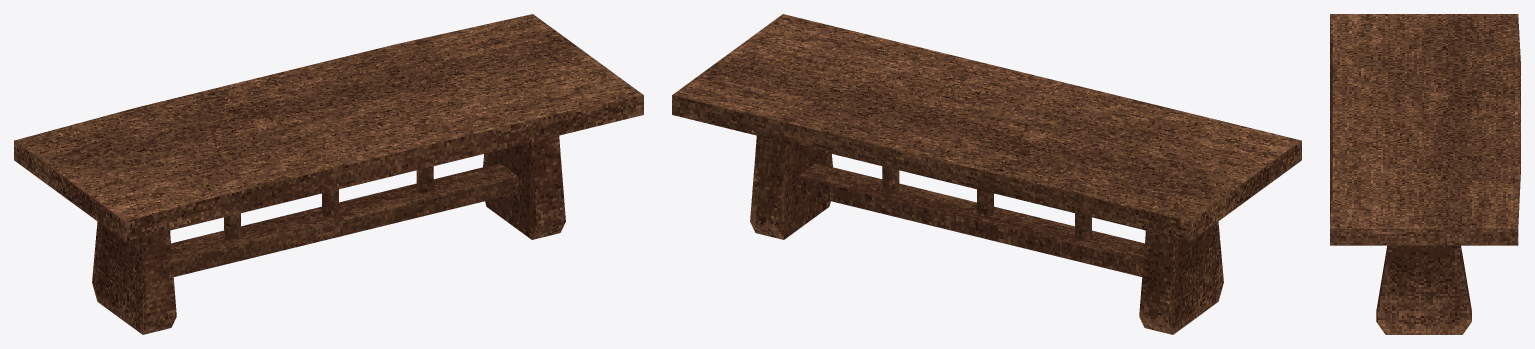
Rendered from Table_1.gltf.
3 views of the same model, side by side, from view 1: azimuth 30°, elevation 25°; view 2: azimuth 150°, elevation 25°; view 3: azimuth 270°, elevation 25° (orthographic). The views are drawn at different scales.
Visible parts, largest first — view 1: Table_1; view 2: Table_1; view 3: Table_1.
Part boxes in pixels (x1,y1,x2,y2): Table_1: (14, 14, 643, 334); Table_1: (672, 14, 1301, 334); Table_1: (1330, 14, 1520, 334).
Size of the model in its own units: 7.52 by 2.09 by 2.82.
Materials: 1 (1 with a texture image).
